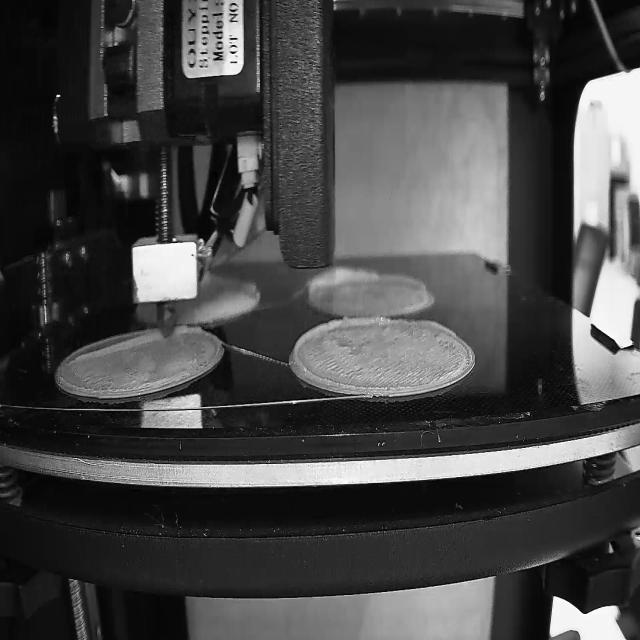over_extrusion: (292, 314, 393, 392), (70, 326, 160, 367), (304, 262, 379, 300), (382, 269, 429, 297), (414, 315, 456, 340), (174, 324, 200, 338)
